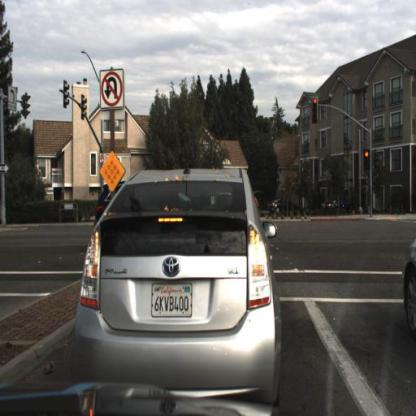car: (69, 158, 281, 398), (395, 211, 415, 354), (263, 194, 293, 223), (318, 191, 341, 215), (266, 196, 289, 215)
trafficLight-Red: (309, 90, 320, 126), (362, 147, 371, 173)
